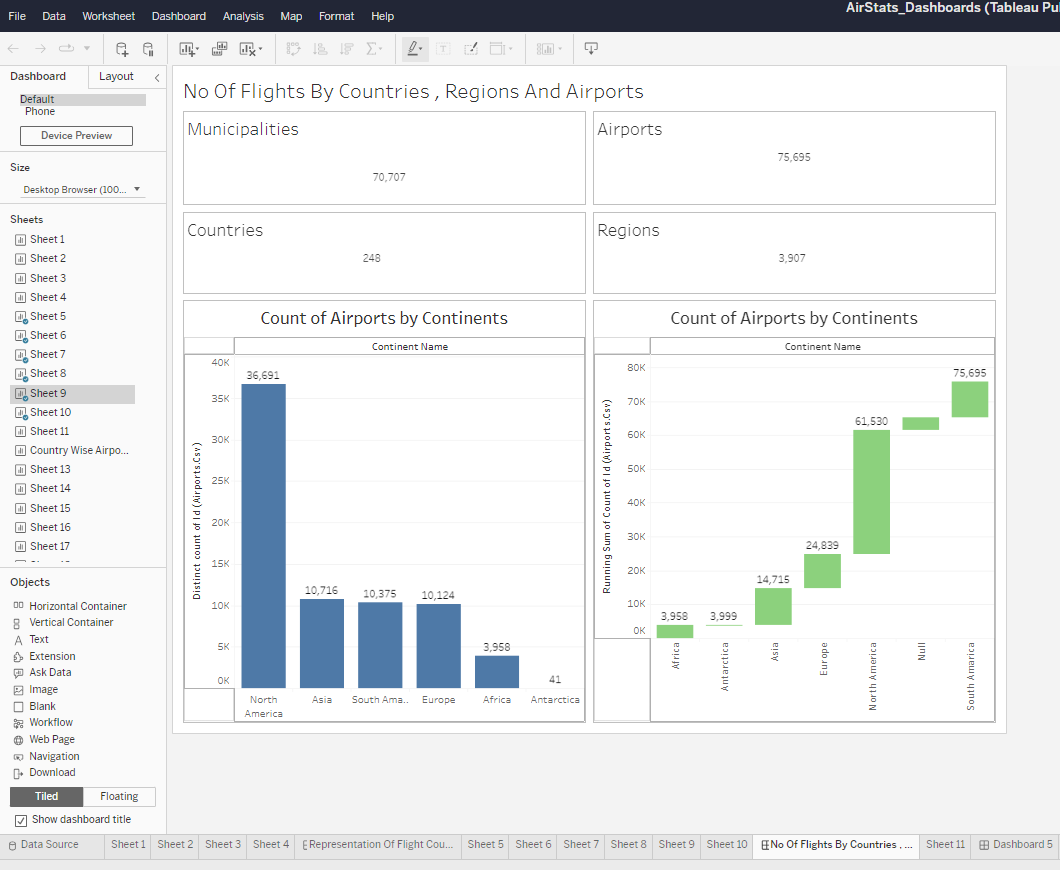

The dashboard page shown, as its layout file describes it:
{"tool":"tableau","page":{"name":"No Of Flights By Countries , Regions And Airports","canvas":[1000,800],"ordinal":4},"visuals":[{"type":"title","box":[8,8,984,50]},{"type":"worksheet","title":"Sheet 8","mark":"Automatic","box":[8,58,492,120]},{"type":"worksheet","title":"Sheet 7","mark":"Automatic","box":[500,58,492,120]},{"type":"worksheet","title":"Sheet 5","mark":"Text","box":[8,178,492,105]},{"type":"worksheet","title":"Sheet 6","mark":"Automatic","box":[500,178,492,105]},{"type":"worksheet","title":"Sheet 9","mark":"Bar","rows":["id (airports.csv)"],"cols":["Calculation_2221682034224218112"],"box":[8,283,492,509]},{"type":"worksheet","title":"Sheet 10","mark":"GanttBar","rows":["id (airports.csv)"],"cols":["Calculation_2221682034224218112"],"box":[500,283,492,509]}]}

Visuals, with their boxes on the page's 1000x800 design canvas (x1, y1, x2, y2). These are canvas units, not pixel positions in the 1060x870 screenshot, which may show the page scaled, cropped or inside an application window:
title: (left=8, top=8, right=992, bottom=58)
"Sheet 8" worksheet: (left=8, top=58, right=500, bottom=178)
"Sheet 7" worksheet: (left=500, top=58, right=992, bottom=178)
"Sheet 5" worksheet (Text marks): (left=8, top=178, right=500, bottom=283)
"Sheet 6" worksheet: (left=500, top=178, right=992, bottom=283)
"Sheet 9" worksheet (Bar marks): (left=8, top=283, right=500, bottom=792)
"Sheet 10" worksheet (GanttBar marks): (left=500, top=283, right=992, bottom=792)
